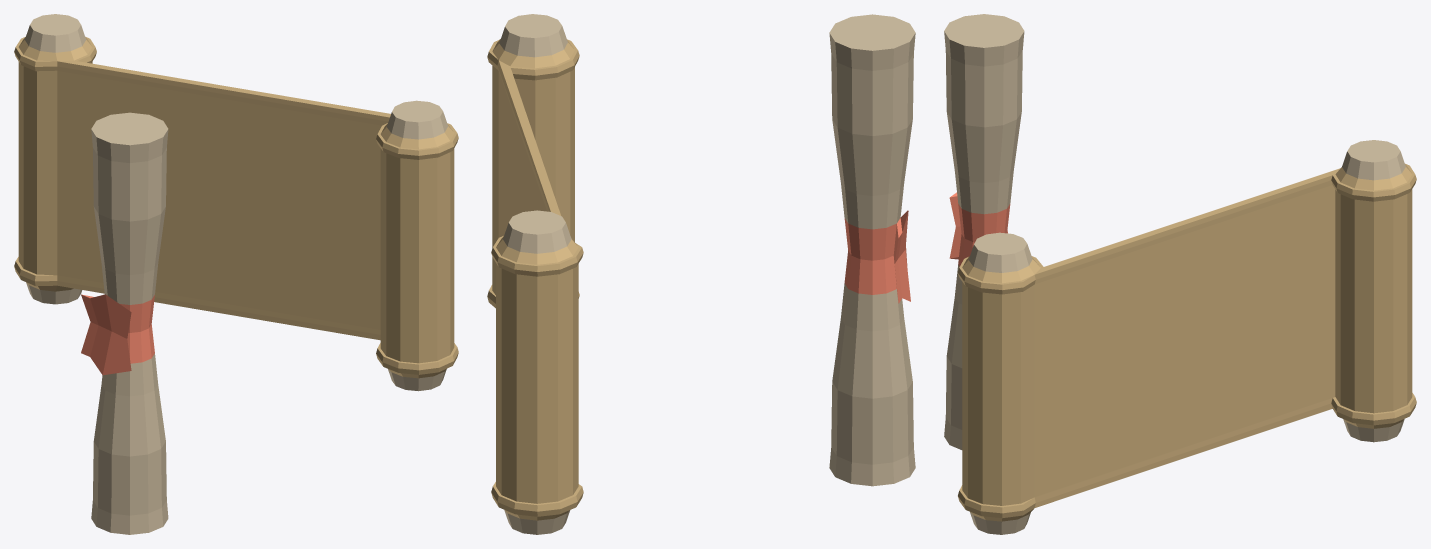
Rendered from scroll.closed.fbx.
The picture shows the model from 3 angles, left to right: view 1: azimuth 30°, elevation 25°; view 2: azimuth 150°, elevation 25°; view 3: azimuth 270°, elevation 25°; orthographic projection. The views are drawn at different scales.
Visible parts, largest first — view 1: Cylinder, Cylinder.001; view 2: Cylinder, Cylinder.001; view 3: Cylinder, Cylinder.001.
Boxes of the visible parts, box(x1,y1,x2,y2) form: Cylinder: box(14, 14, 458, 391); Cylinder.001: box(81, 112, 168, 534); Cylinder: box(487, 14, 583, 534); Cylinder.001: box(829, 14, 915, 486); Cylinder: box(957, 140, 1416, 534); Cylinder.001: box(944, 14, 1024, 449).
Bounding box in the file's own units: 1147 × 1162 × 1228.
